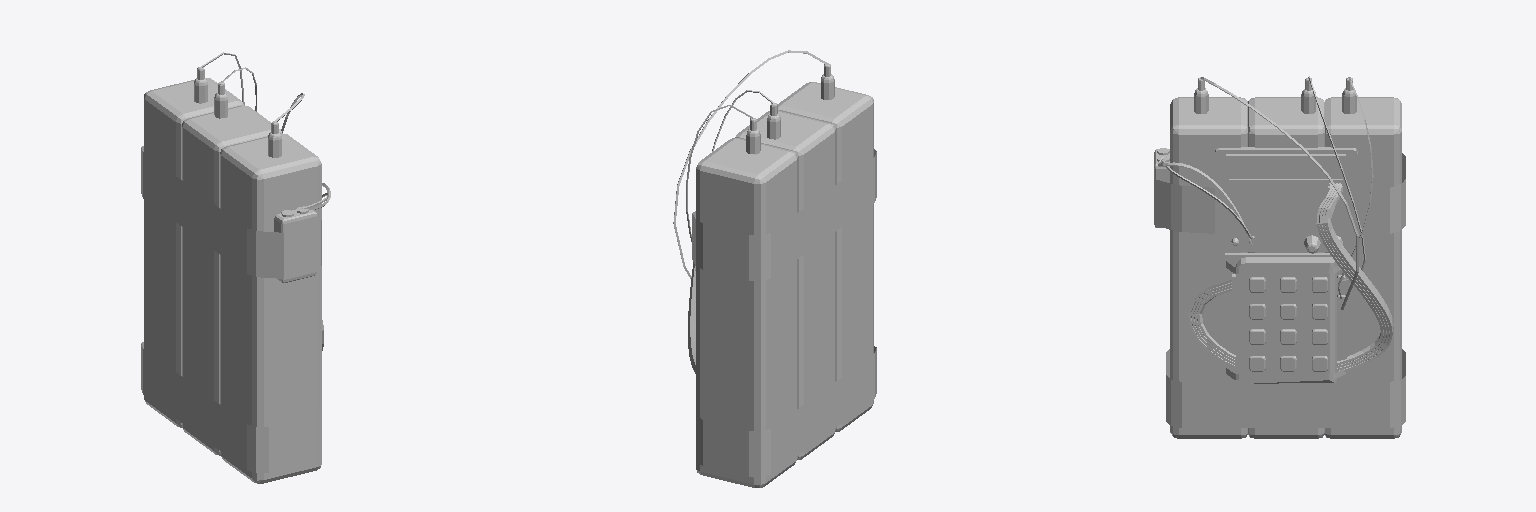
3 views of the same model, side by side, from view 1: azimuth 30°, elevation 25°; view 2: azimuth 150°, elevation 25°; view 3: azimuth 270°, elevation 25° (orthographic).
Parts seen in each view (by area): view 1: C4_Bomb_Cube.002; view 2: C4_Bomb_Cube.002; view 3: C4_Bomb_Cube.002.
Part boxes in pixels (bbox=[...]): C4_Bomb_Cube.002: bbox=[141, 52, 330, 483]; C4_Bomb_Cube.002: bbox=[673, 50, 876, 487]; C4_Bomb_Cube.002: bbox=[1154, 76, 1405, 438].
Size of the model in its own units: 1.11 by 3.25 by 2.08.